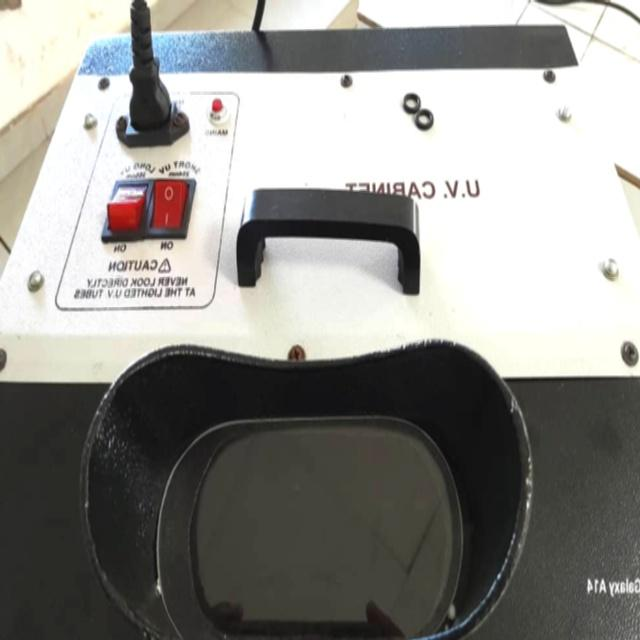U.V Cabinet: (0, 25, 572, 640)
